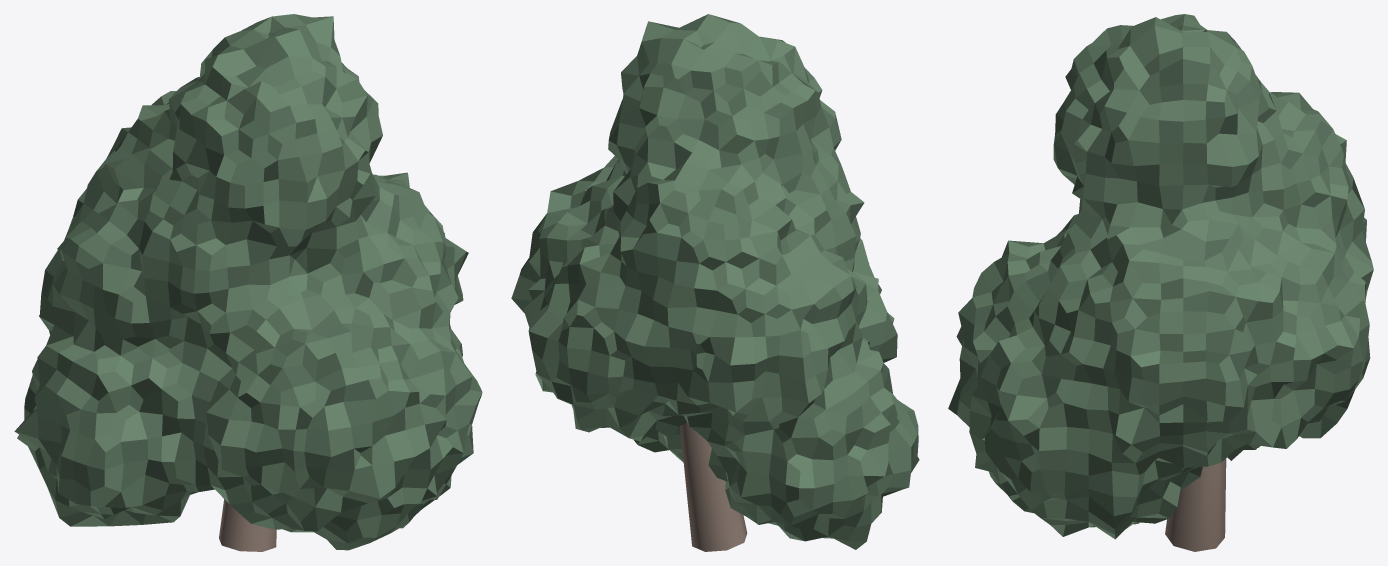
Rendered from SM_Juniper_B.fbx.
The picture shows the model from 3 angles, left to right: view 1: azimuth 30°, elevation 25°; view 2: azimuth 150°, elevation 25°; view 3: azimuth 270°, elevation 25°; orthographic projection. The views are drawn at different scales.
Parts seen in each view (by area): view 1: SM_Juniper_B; view 2: SM_Juniper_B; view 3: SM_Juniper_B.
Boxes of the visible parts, box(x1,y1,x2,y2) form: SM_Juniper_B: box(14, 14, 482, 551); SM_Juniper_B: box(511, 14, 919, 551); SM_Juniper_B: box(948, 14, 1373, 551).
Bounding box in the file's own units: 431 × 544 × 396.
